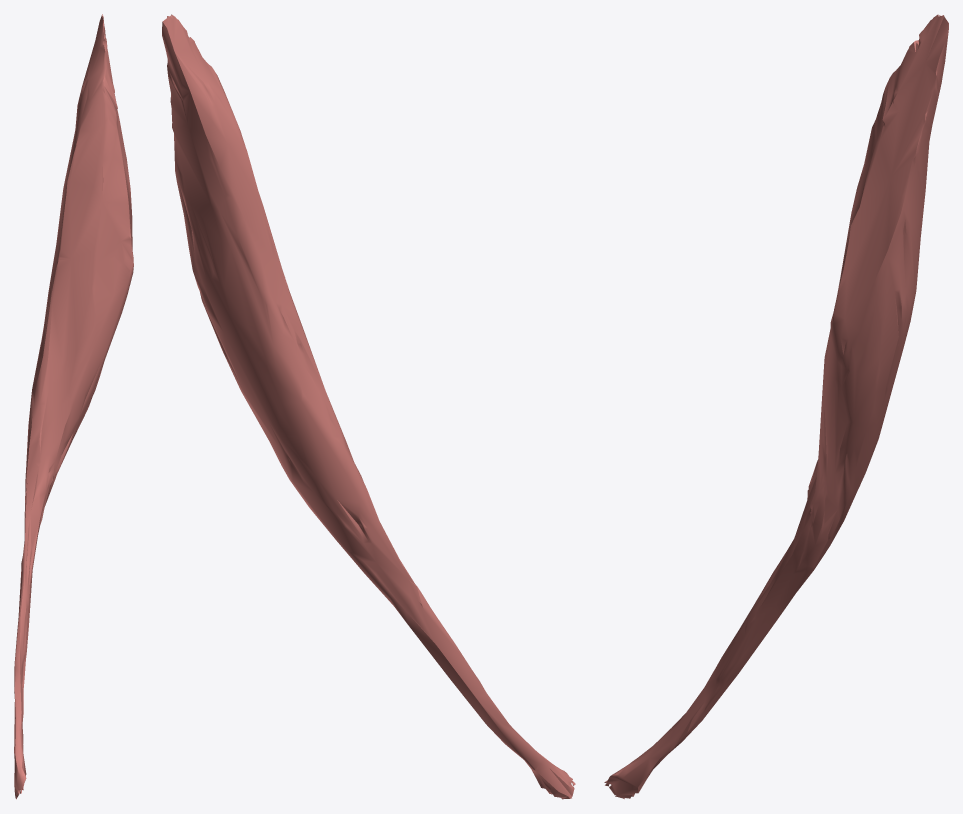
The model's file is fma38516_fj1484.glb.
3 renders of one model, left to right at view 1: azimuth 30°, elevation 25°; view 2: azimuth 150°, elevation 25°; view 3: azimuth 270°, elevation 25°, orthographic. The views are drawn at different scales.
Visible parts, largest first — view 1: FMA38516_FJ1484; view 2: FMA38516_FJ1484; view 3: FMA38516_FJ1484.
Part boxes in pixels (<box>): FMA38516_FJ1484: <box>14,14,133,799</box>; FMA38516_FJ1484: <box>162,14,575,799</box>; FMA38516_FJ1484: <box>604,14,948,799</box>.
Bounding box in the file's own units: 0.0619 × 0.182 × 0.0617.
